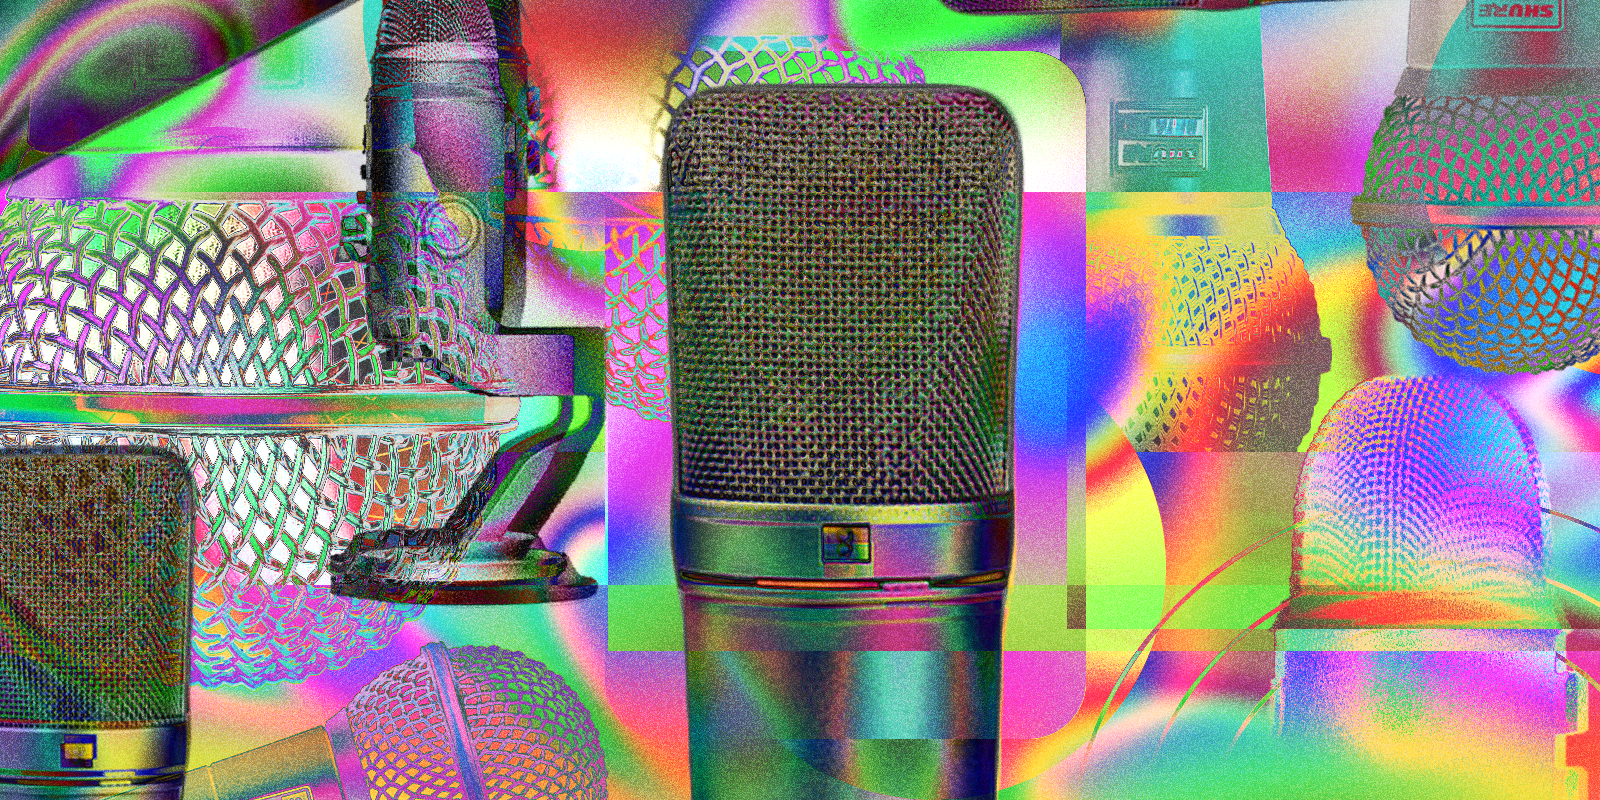microphone: (659, 82, 1026, 800), (326, 3, 609, 608), (1271, 370, 1576, 800), (1348, 6, 1600, 376), (1, 441, 201, 800)
